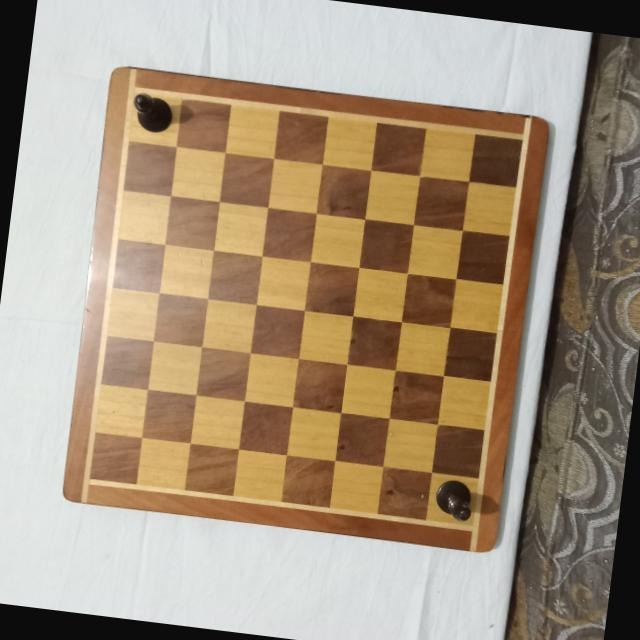black-bishop: (128, 89, 176, 134), (433, 475, 475, 522)
